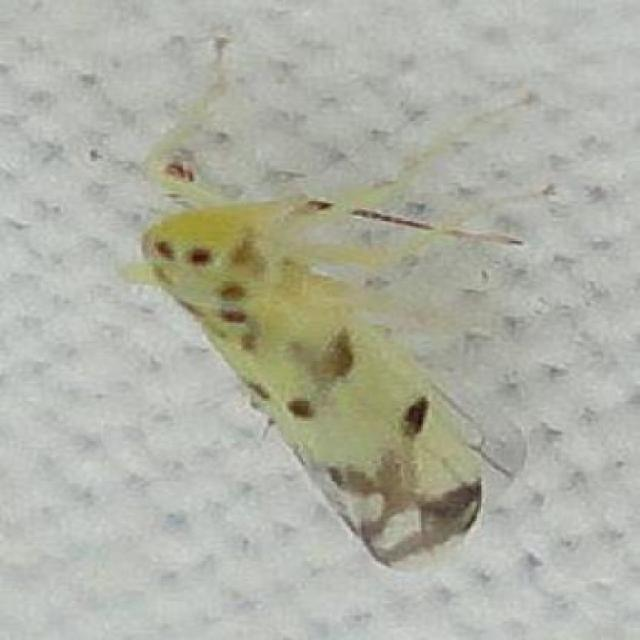green-leafhopper: (138, 197, 484, 571)
